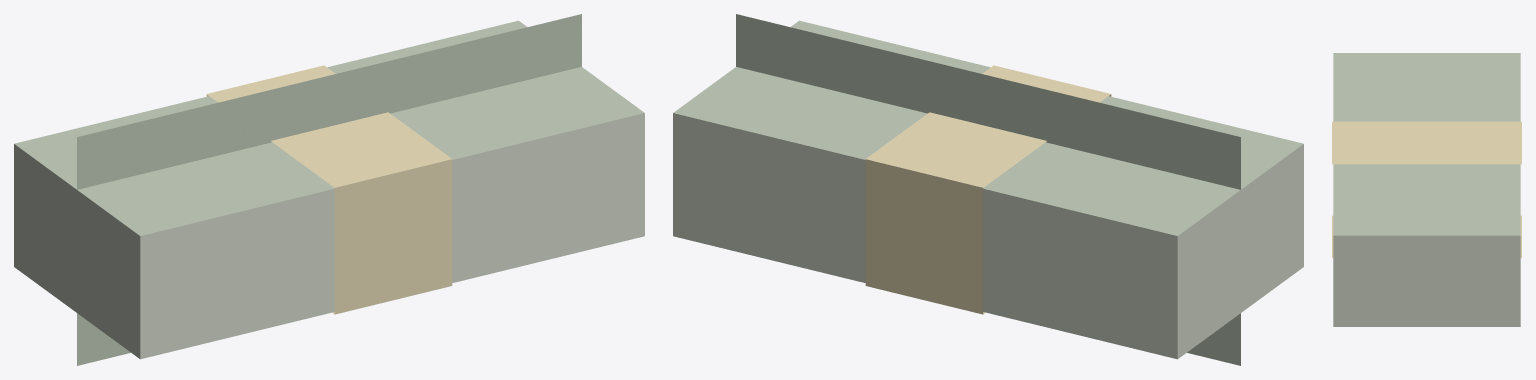
File: money.glb
3 views of the same model, side by side, from view 1: azimuth 30°, elevation 25°; view 2: azimuth 150°, elevation 25°; view 3: azimuth 270°, elevation 25° (orthographic). The views are drawn at different scales.
Parts seen in each view (by area): view 1: StackSides, StackFaces, Bill, Band; view 2: StackSides, StackFaces, Bill, Band; view 3: StackFaces, StackSides, Band.
Part boxes in pixels (x1,y1,x2,y2): StackSides: (14,113,644,359); StackFaces: (14,20,644,235); Bill: (77,14,581,365); Band: (206,65,452,314); StackSides: (673,113,1303,359); StackFaces: (673,20,1303,235); Bill: (736,14,1240,365); Band: (865,65,1111,314); StackFaces: (1333,53,1520,235); StackSides: (1333,235,1520,326); Band: (1332,121,1521,258).
Bounding box in the file's own units: 1.8 × 0.78 × 0.792.
